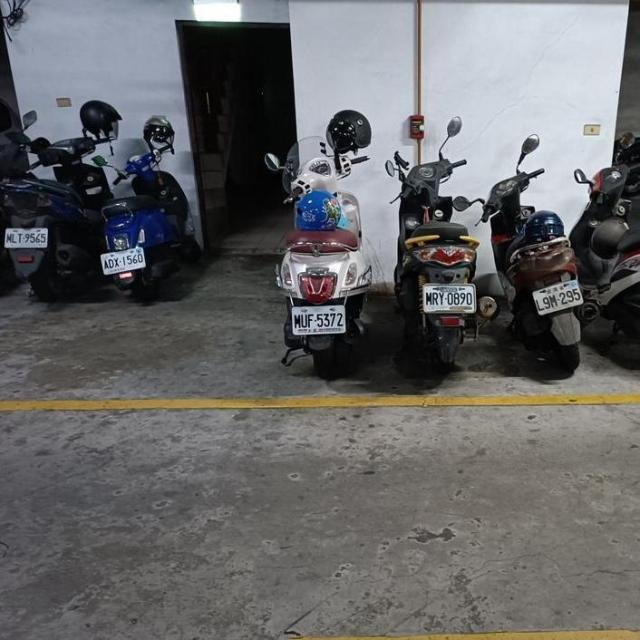W: (528, 271, 584, 316), (420, 276, 477, 316), (289, 301, 347, 336), (96, 243, 148, 276), (3, 220, 50, 251)
